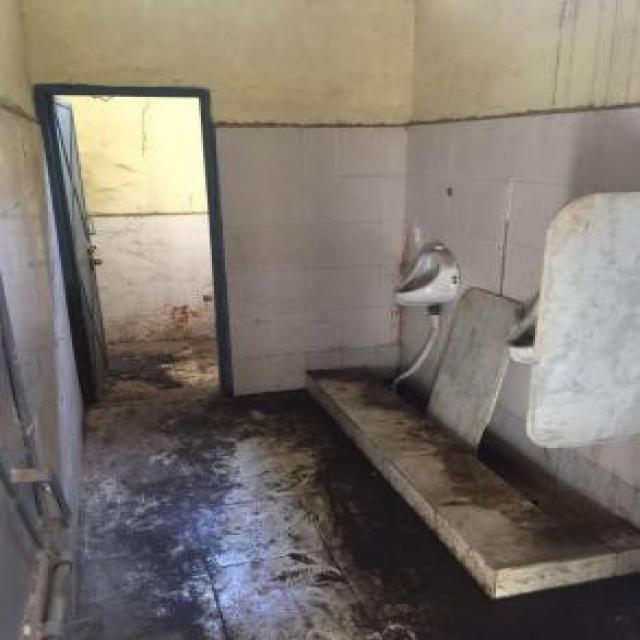dirty_floor: (3, 2, 637, 636), (70, 335, 637, 637)
